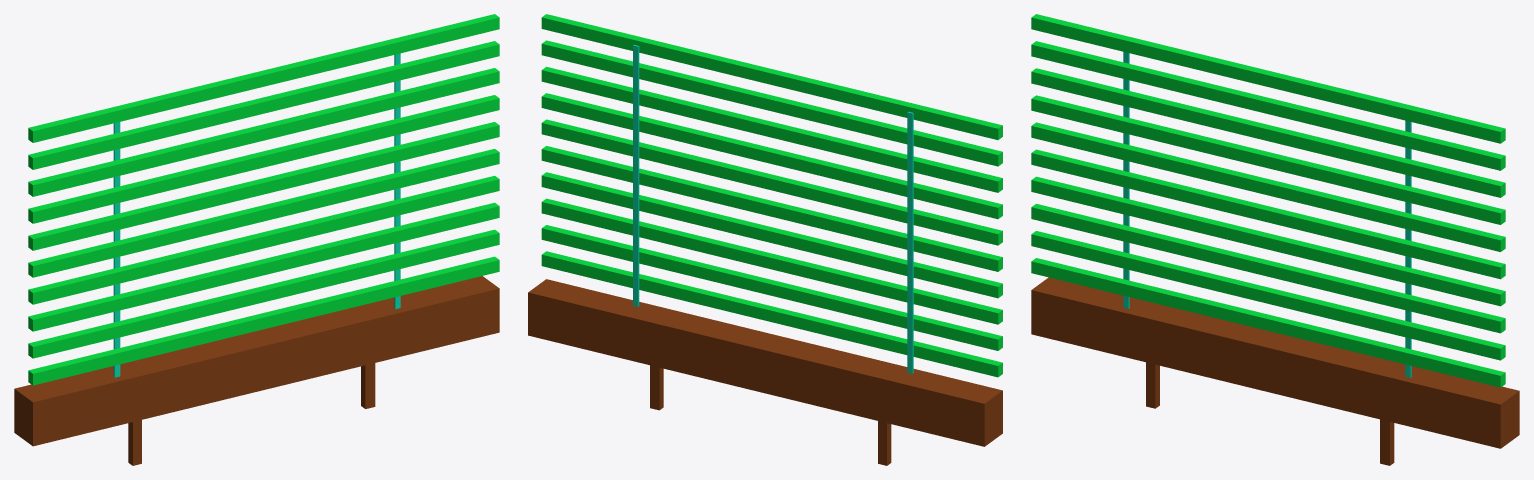
The model's file is Adorno1.fbx.
3 views of the same model, side by side, from view 1: azimuth 30°, elevation 25°; view 2: azimuth 150°, elevation 25°; view 3: azimuth 330°, elevation 25° (orthographic). The views are drawn at different scales.
Visible parts, largest first — view 1: Adorno_1, Base_1, Conexion_1; view 2: Adorno_1, Base_1, Conexion_1; view 3: Adorno_1, Base_1, Conexion_1.
Boxes of the visible parts, x1,y1,x2,y2 form: Adorno_1: (28, 14, 499, 385); Base_1: (14, 276, 499, 465); Conexion_1: (113, 53, 400, 377); Adorno_1: (541, 14, 1002, 377); Base_1: (528, 279, 1002, 465); Conexion_1: (633, 45, 913, 373); Adorno_1: (1031, 14, 1505, 387); Base_1: (1031, 277, 1519, 465); Conexion_1: (1123, 52, 1411, 377).
Size of the model in its own units: 574 by 430 by 39.84.
